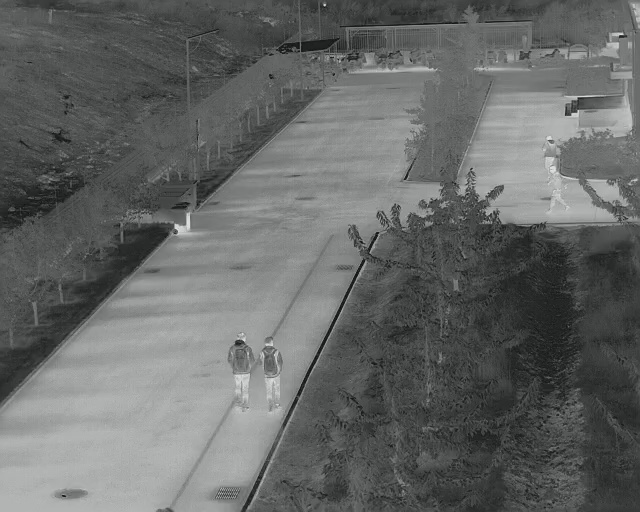person: (227, 329, 254, 415), (259, 333, 284, 415), (543, 166, 571, 214), (540, 132, 559, 166)
